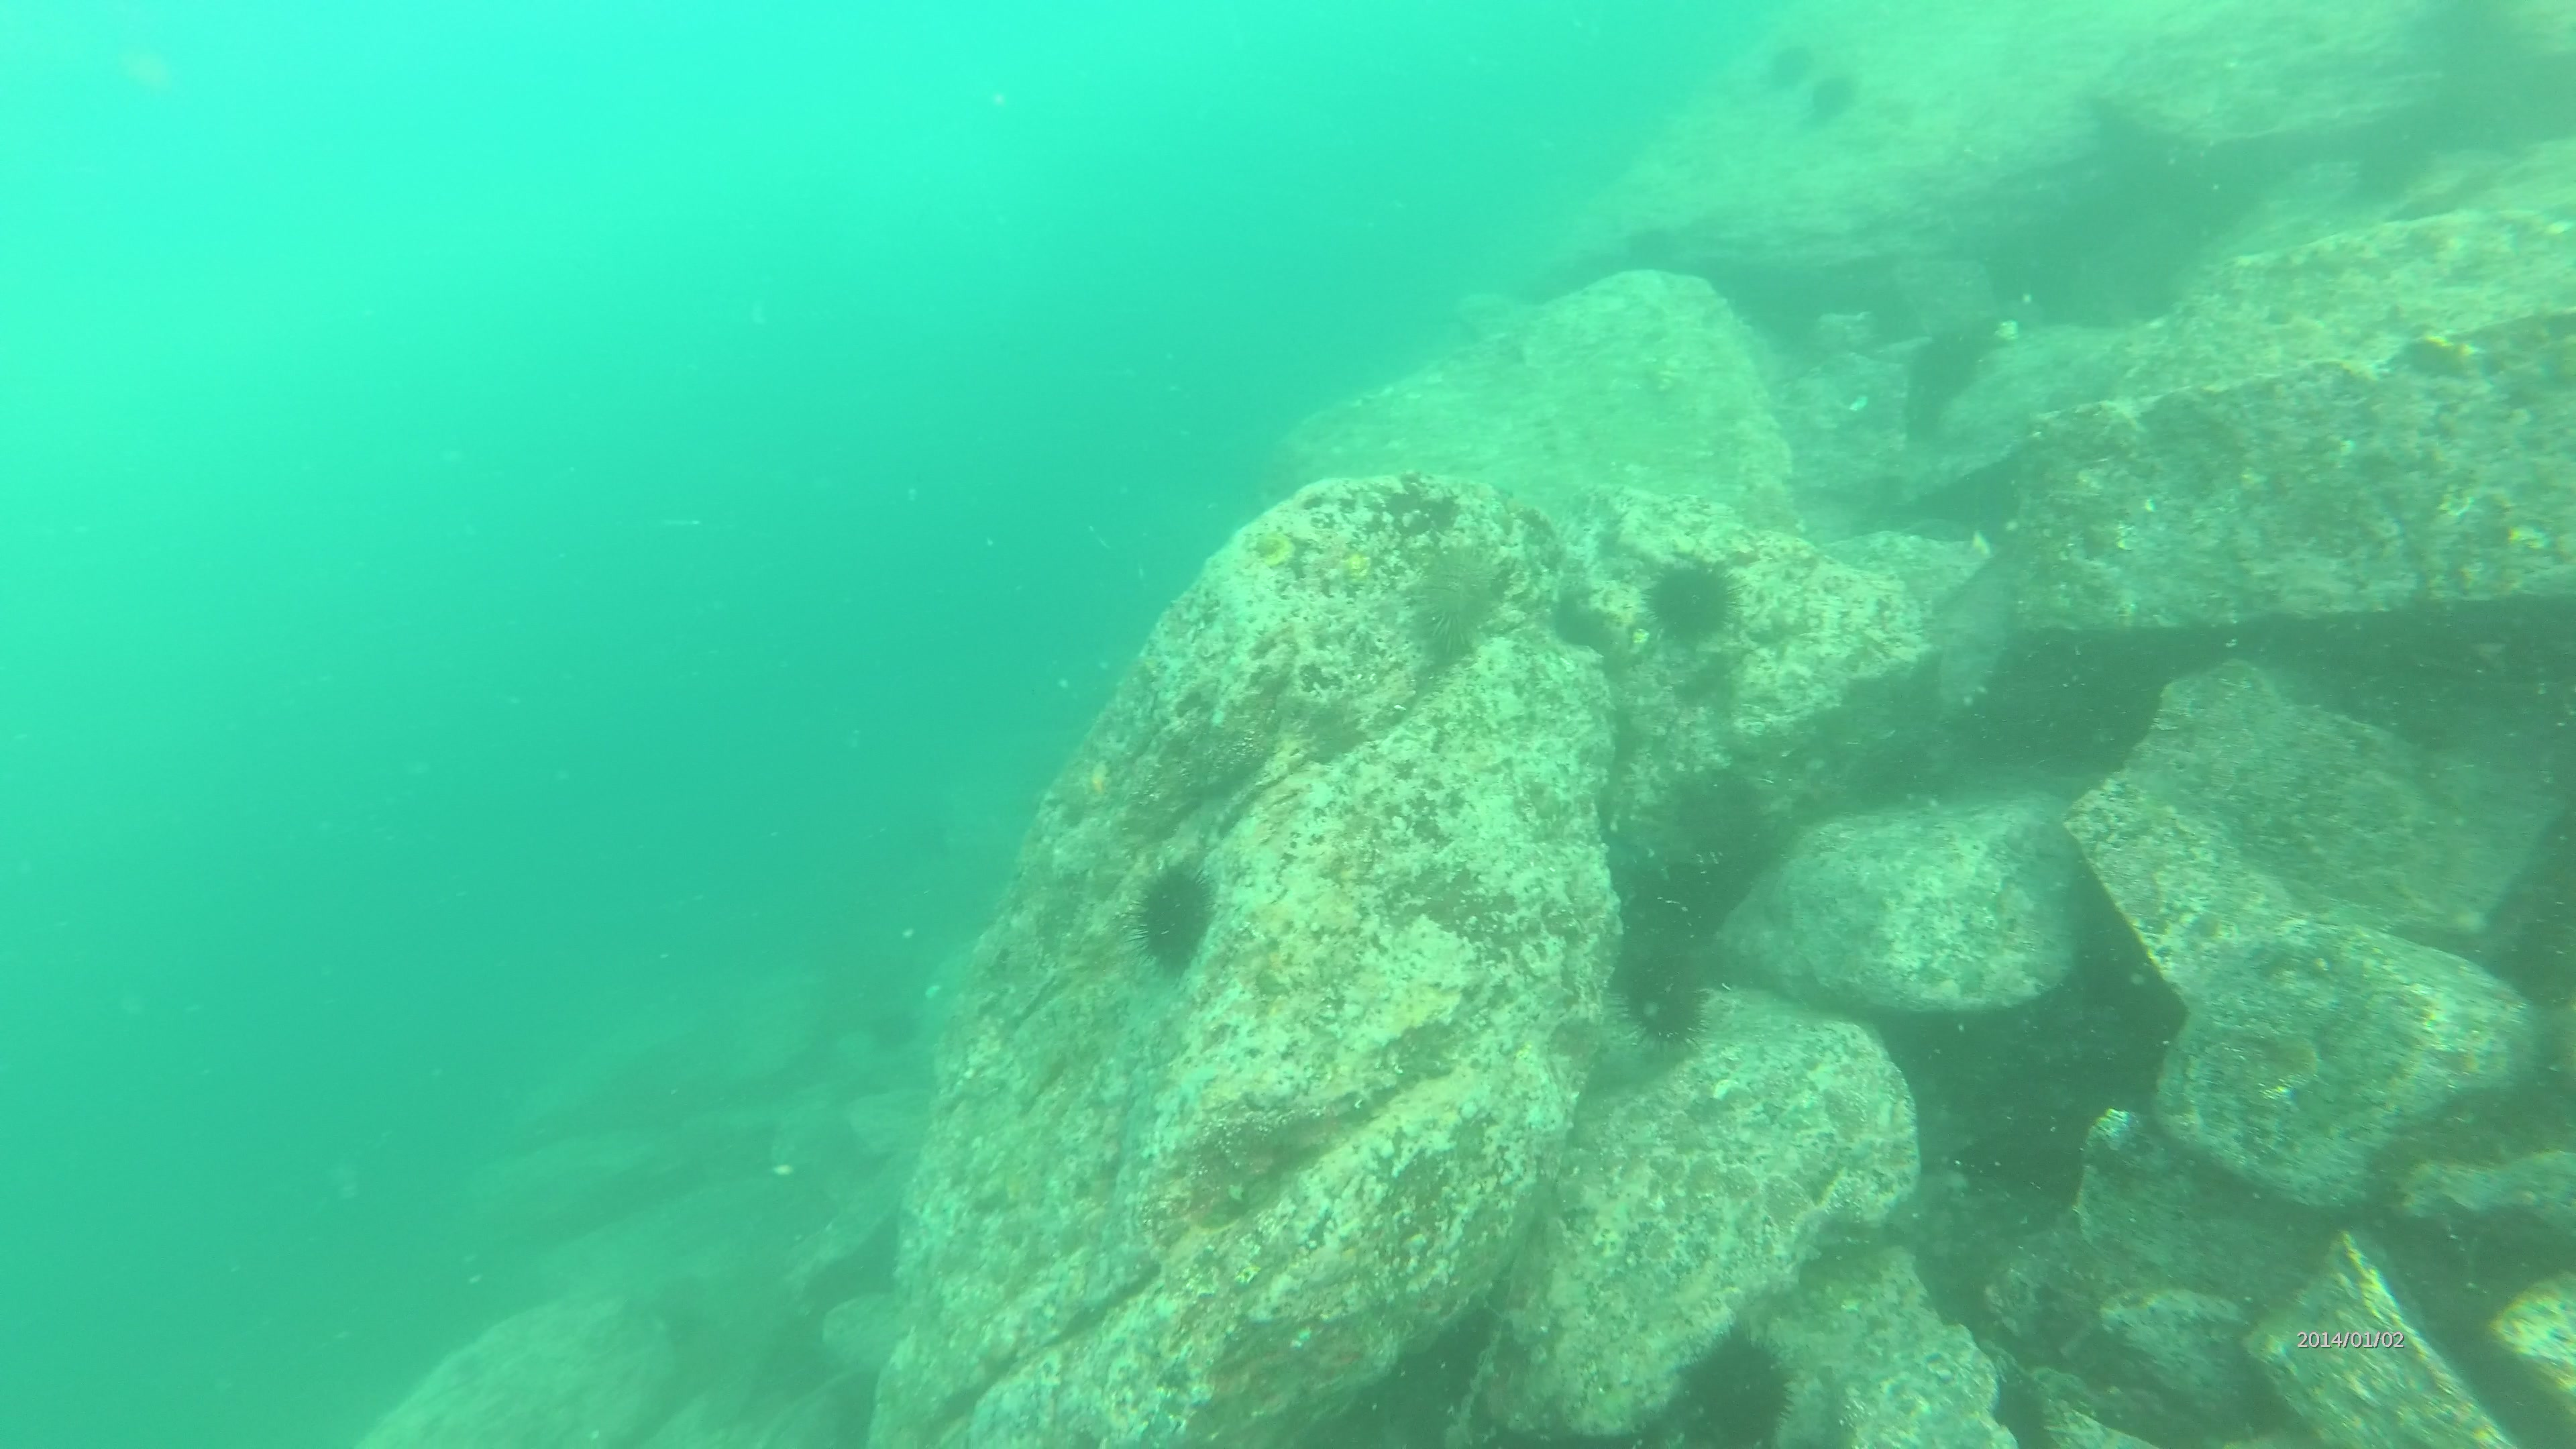echinus: (1394, 533, 1511, 674), (1640, 543, 1762, 665), (1677, 1327, 1782, 1449), (1615, 948, 1718, 1063), (1141, 855, 1219, 978), (1748, 34, 1826, 99), (1799, 64, 1865, 136)
scallop: (1231, 520, 1307, 582), (1307, 531, 1369, 602)
